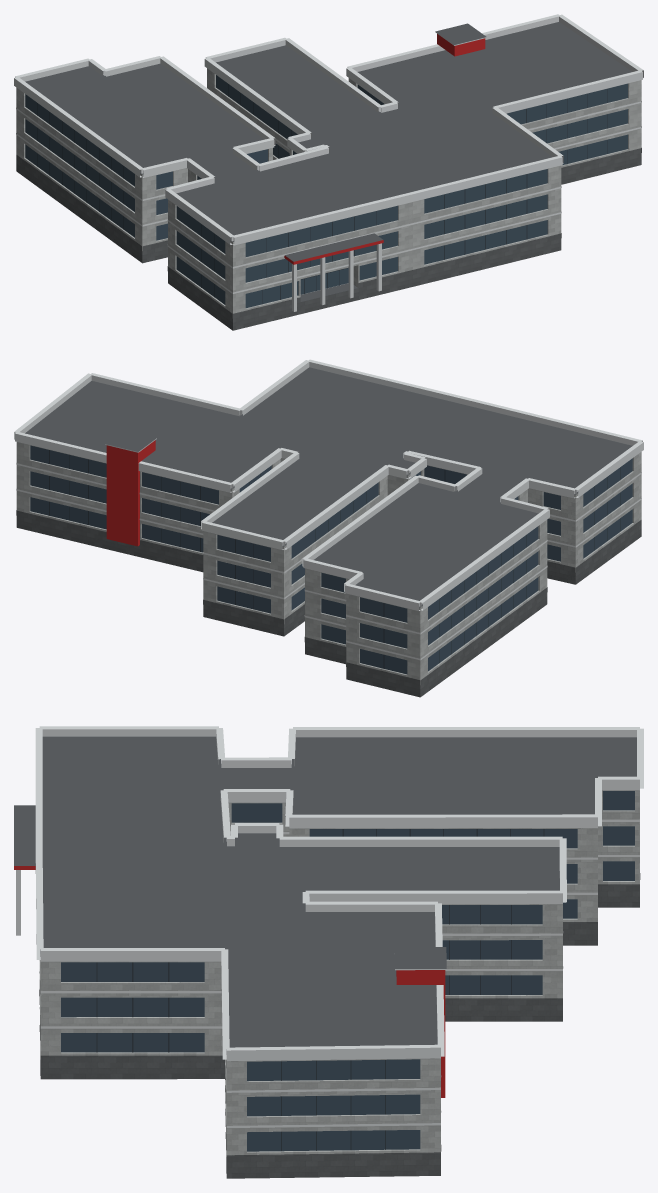
3 renders of one model, top to bottom at view 1: azimuth 30°, elevation 25°; view 2: azimuth 150°, elevation 25°; view 3: azimuth 270°, elevation 25°, orthographic. The views are drawn at different scales.
Parts seen in each view (by area): view 1: eduSupport__roof, eduSupport__glass, eduSupport__wall, eduSupport__trim, eduSupport__base, eduSupport__frame, eduSupport__column, eduSupport__wall2; view 2: eduSupport__roof, eduSupport__wall, eduSupport__trim, eduSupport__glass, eduSupport__base, eduSupport__wall2, eduSupport__frame; view 3: eduSupport__roof, eduSupport__trim, eduSupport__glass, eduSupport__wall, eduSupport__base, eduSupport__wall2, eduSupport__frame.
Part boxes in pixels (<box>): eduSupport__roof: <box>25,22,631,301</box>; eduSupport__glass: <box>25,75,627,308</box>; eduSupport__wall: <box>16,68,641,318</box>; eduSupport__trim: <box>14,14,643,293</box>; eduSupport__base: <box>16,148,641,330</box>; eduSupport__frame: <box>37,84,607,303</box>; eduSupport__column: <box>292,243,381,311</box>; eduSupport__wall2: <box>284,34,485,264</box>; eduSupport__roof: <box>25,367,632,607</box>; eduSupport__wall: <box>16,442,641,684</box>; eduSupport__trim: <box>14,359,643,660</box>; eduSupport__glass: <box>30,445,632,674</box>; eduSupport__base: <box>16,510,641,697</box>; eduSupport__wall2: <box>106,440,155,546</box>; eduSupport__frame: <box>49,450,620,668</box>; eduSupport__roof: <box>14,736,636,1047</box>; eduSupport__trim: <box>35,726,643,1127</box>; eduSupport__glass: <box>61,791,634,1151</box>; eduSupport__wall: <box>39,790,639,1156</box>; eduSupport__base: <box>39,873,640,1178</box>; eduSupport__wall2: <box>14,866,445,1097</box>; eduSupport__frame: <box>96,829,544,1151</box>.
Size of the model in its own units: 74.99 by 15.8 by 61.57.
9 materials, 2 textured.
